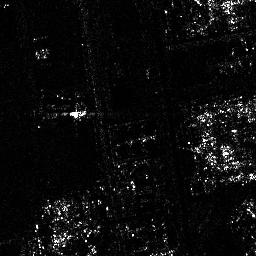ship: (32, 103, 90, 120)
